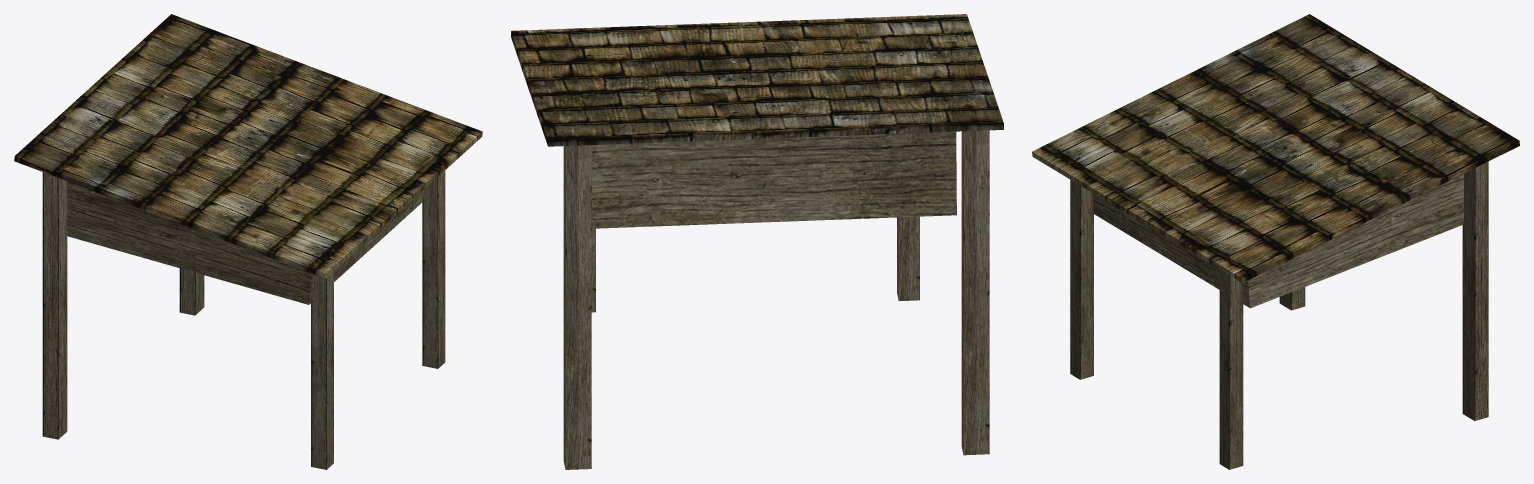
File: Structure_awning.FBX
3 renders of one model, left to right at view 1: azimuth 30°, elevation 25°; view 2: azimuth 150°, elevation 25°; view 3: azimuth 270°, elevation 25°, orthographic. The views are drawn at different scales.
Parts seen in each view (by area): view 1: awning; view 2: awning; view 3: awning.
Boxes of the visible parts, x1,y1,x2,y2 form: awning: (14, 14, 482, 469); awning: (511, 14, 1003, 469); awning: (1032, 14, 1519, 469).
Bounding box in the file's own units: 696 × 428 × 687.
